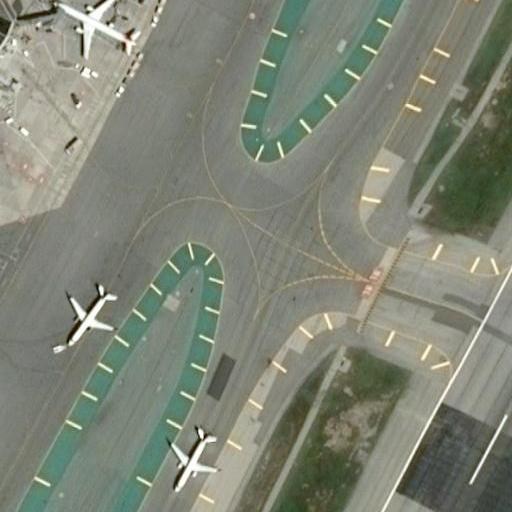Aircraft: (47, 0, 138, 65), (61, 271, 117, 346), (161, 420, 220, 491)
